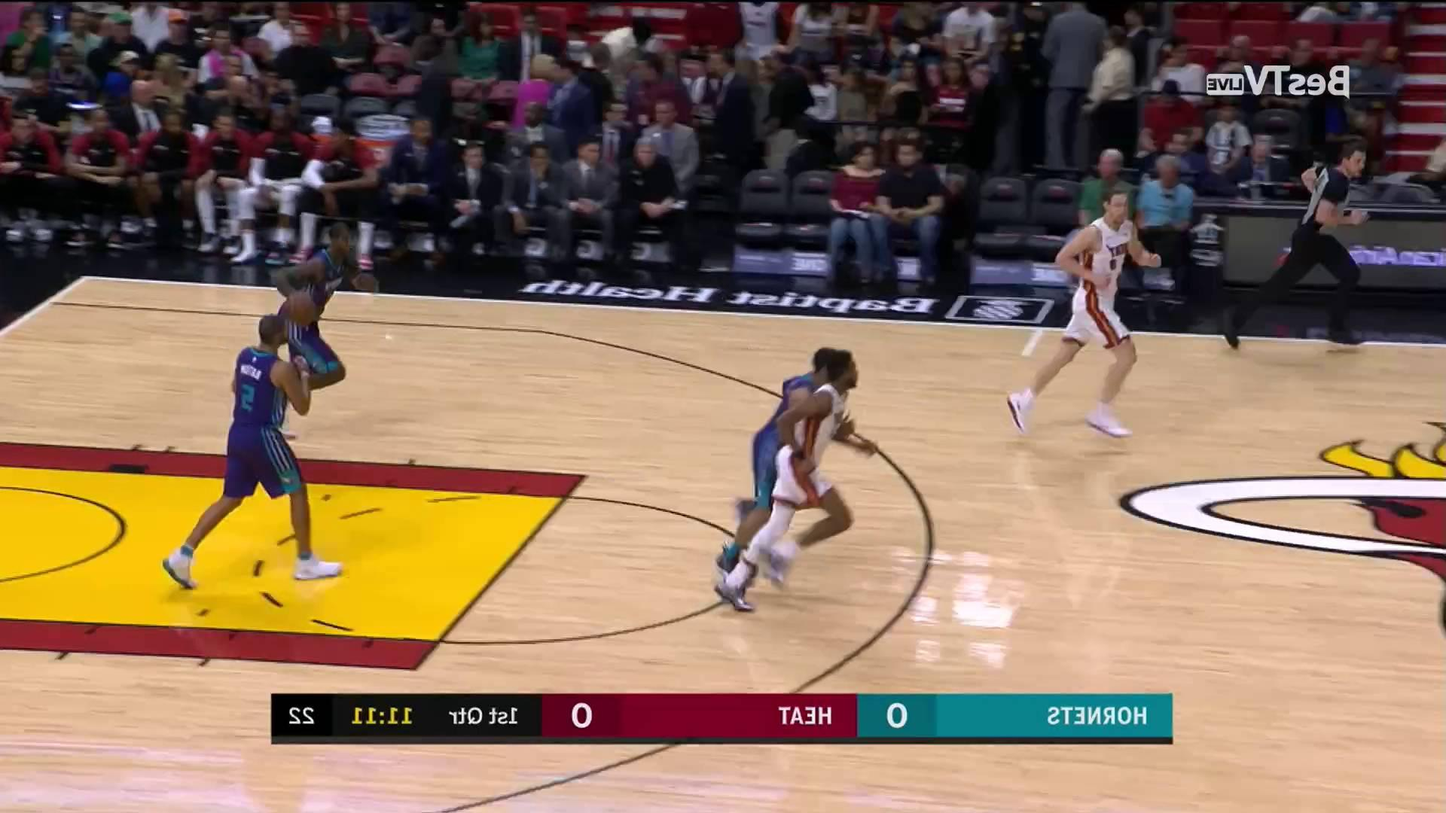basketball: (278, 292, 323, 328)
